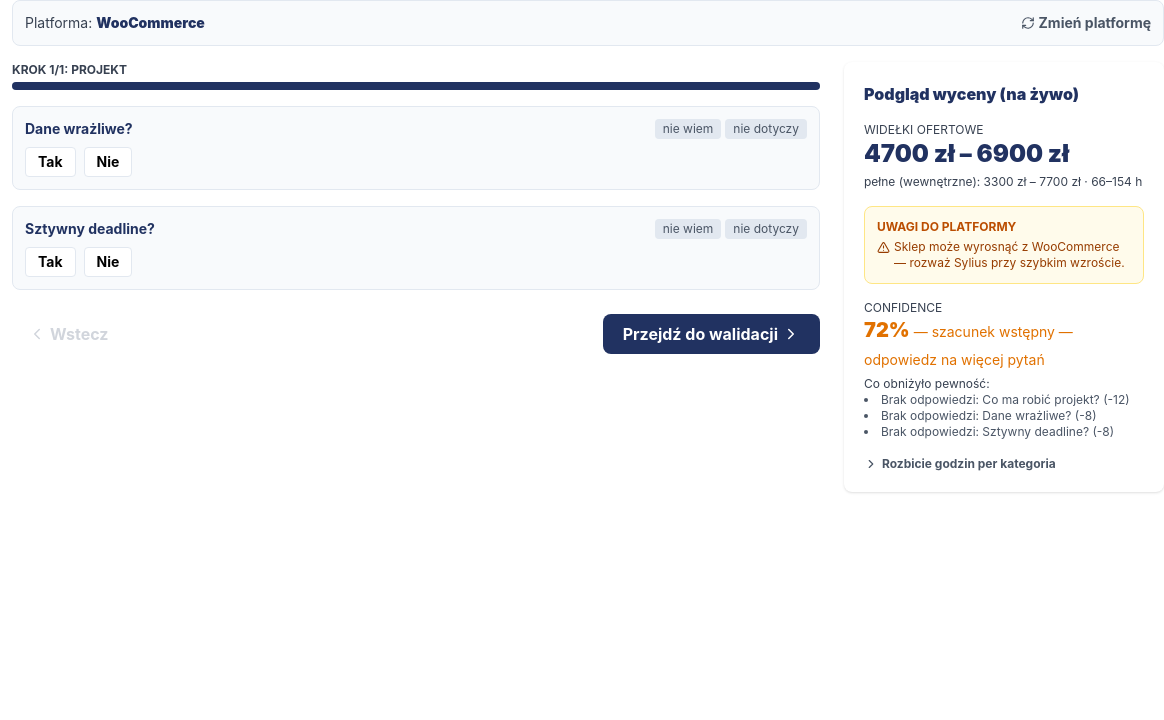
Test: E2E f1b — przepływ do walidacji (bez finalize) › naprawa 4a + „nie wiem": powód obniżenia pewności nazwany po ludzku (etykieta pytania)
Click the 1st button "Nie": point(108, 162) [84, 147, 132, 177]
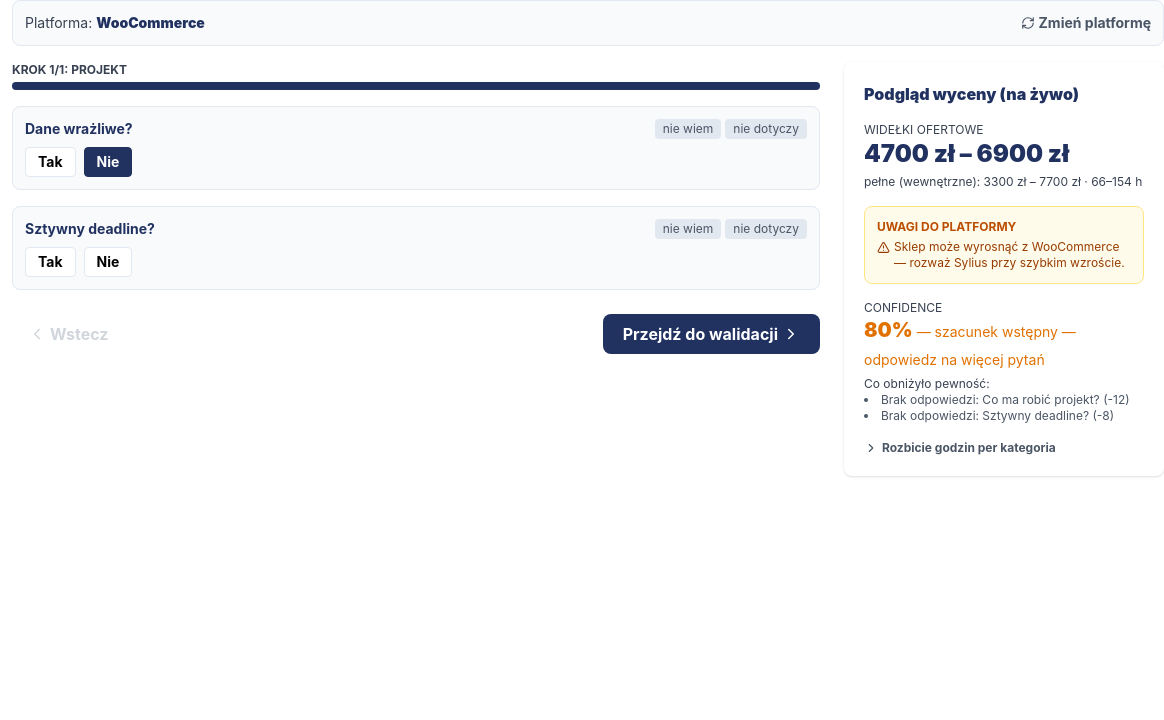
Click the 2nd button "nie wiem": point(688, 229) [655, 219, 721, 239]
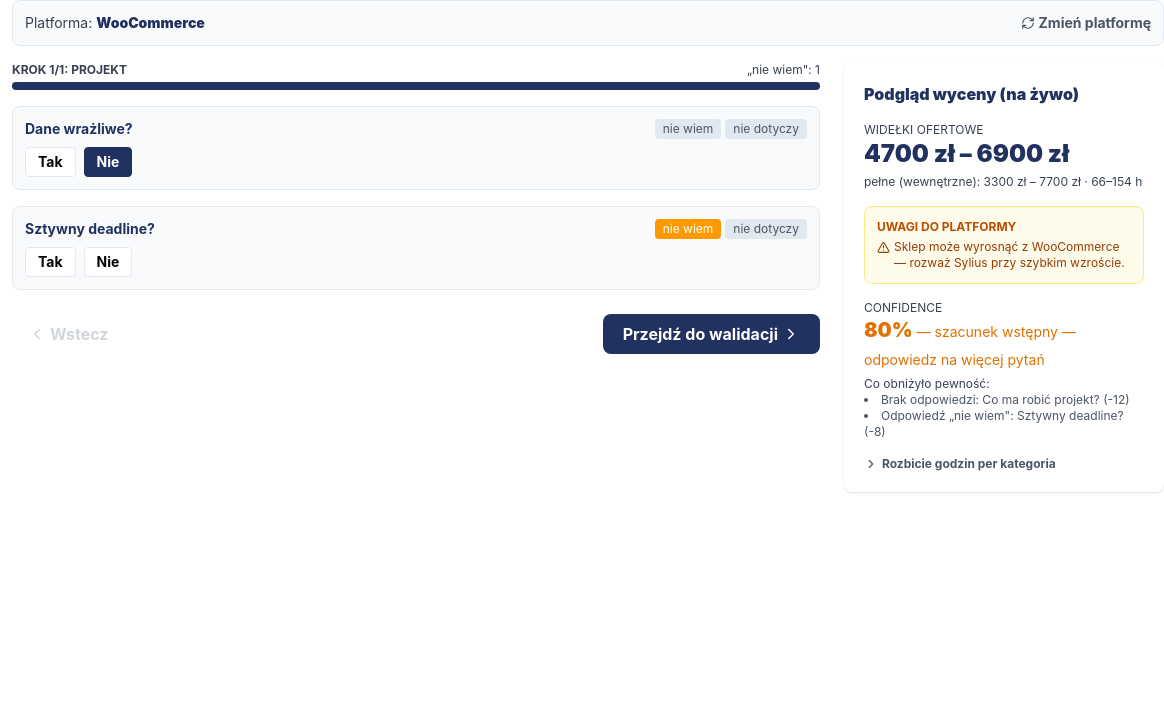
Check: the text "„nie wiem\": 1" is shown, box [747, 62, 820, 78]
Check: the list item "Odpowiedź „nie wiem\": Sztywny deadline? (-8)" is shown, box [864, 408, 1144, 440]
